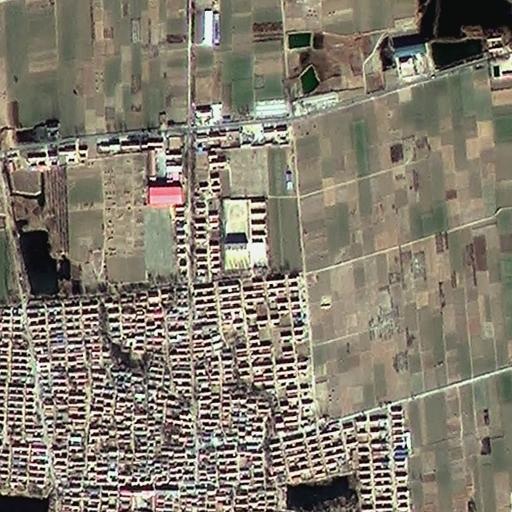school: (220, 192, 269, 270)
